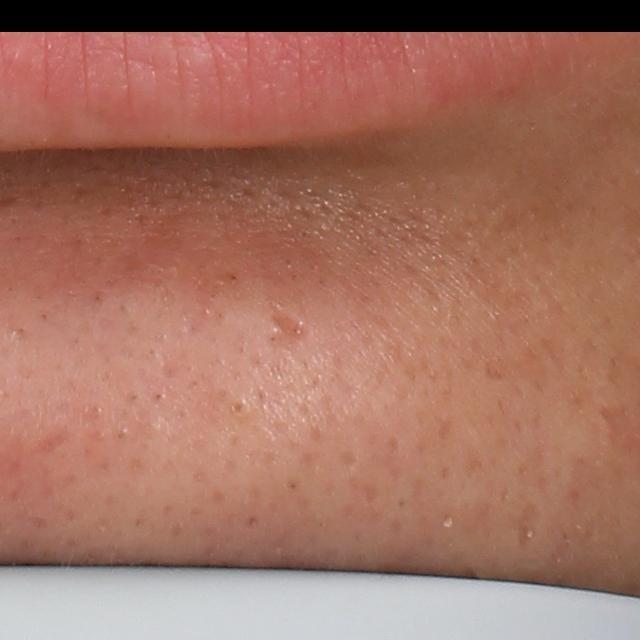atrophic_scar: (515, 502, 540, 550)
comedo: (226, 395, 256, 422)
